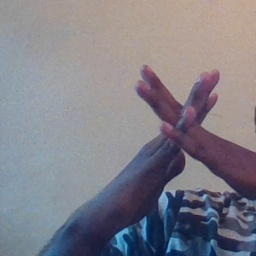W: (119, 53, 244, 213)
